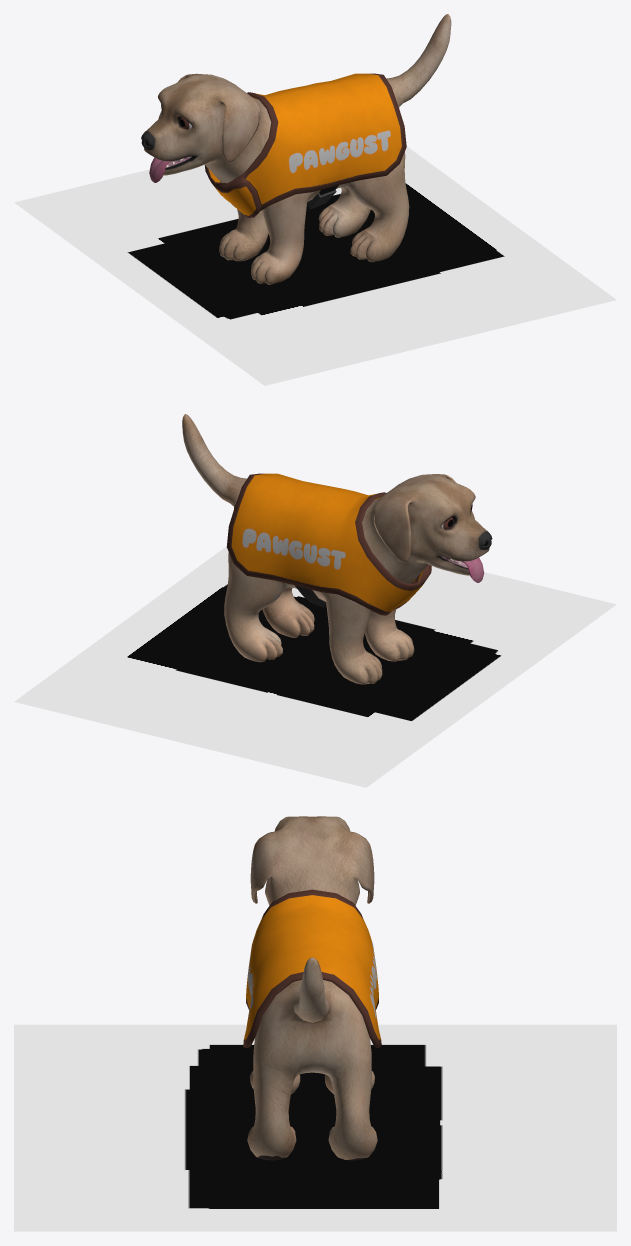
3 renders of one model, top to bottom at view 1: azimuth 30°, elevation 25°; view 2: azimuth 150°, elevation 25°; view 3: azimuth 270°, elevation 25°, orthographic. The views are drawn at different scales.
Visible parts, largest first — view 1: Puppy_Shadow, Puppy_Body, Puppy_Vest; view 2: Puppy_Shadow, Puppy_Body, Puppy_Vest; view 3: Puppy_Shadow, Puppy_Body, Puppy_Vest.
Boxes of the visible parts, x1,y1,x2,y2 form: Puppy_Shadow: (14, 146, 616, 385); Puppy_Body: (141, 14, 451, 284); Puppy_Vest: (204, 73, 406, 217); Puppy_Shadow: (14, 546, 616, 787); Puppy_Body: (182, 414, 492, 684); Puppy_Vest: (226, 473, 431, 615); Puppy_Shadow: (14, 1024, 616, 1231); Puppy_Body: (247, 816, 377, 1160); Puppy_Vest: (243, 889, 381, 1047).
Size of the model in its own units: 3.71 by 2.12 by 4.57.
3 materials, 3 textured.
